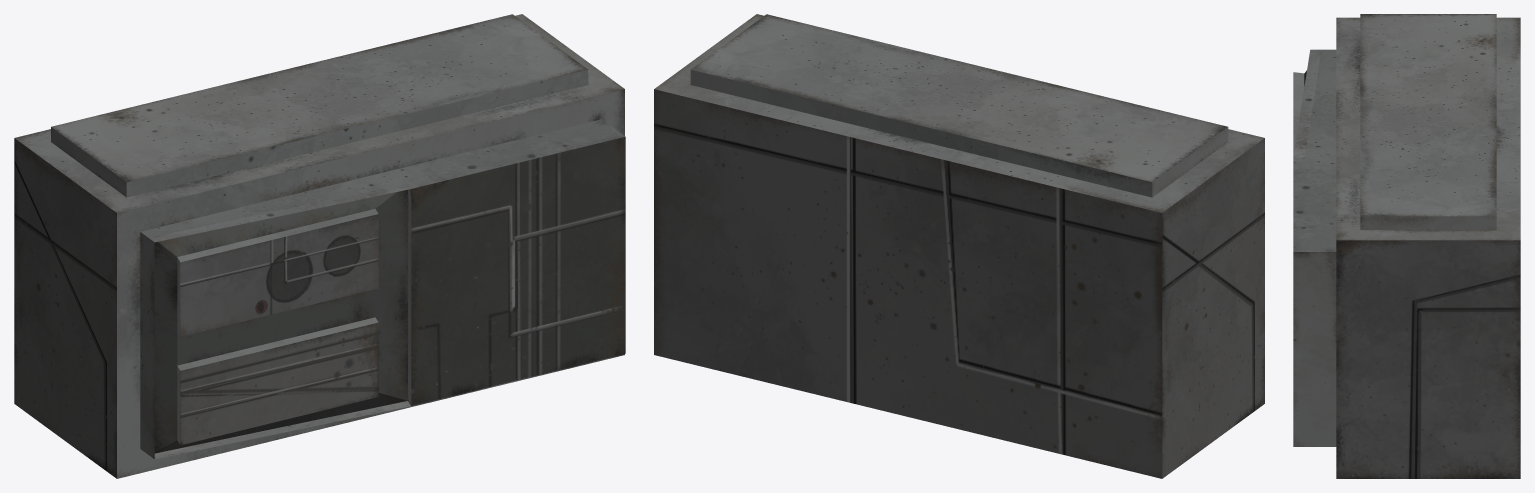
Rendered from prob rooftop 1.fbx.
The picture shows the model from 3 angles, left to right: view 1: azimuth 30°, elevation 25°; view 2: azimuth 150°, elevation 25°; view 3: azimuth 270°, elevation 25°; orthographic projection. The views are drawn at different scales.
Parts seen in each view (by area): view 1: Cube; view 2: Cube; view 3: Cube.
Boxes of the visible parts, x1=… form: Cube: x1=14, y1=14, x2=625, y2=478; Cube: x1=654, y1=14, x2=1264, y2=478; Cube: x1=1293, y1=14, x2=1520, y2=478.
Bounding box in the file's own units: 400 × 212 × 173.
Materials: 1 (1 with a texture image).
